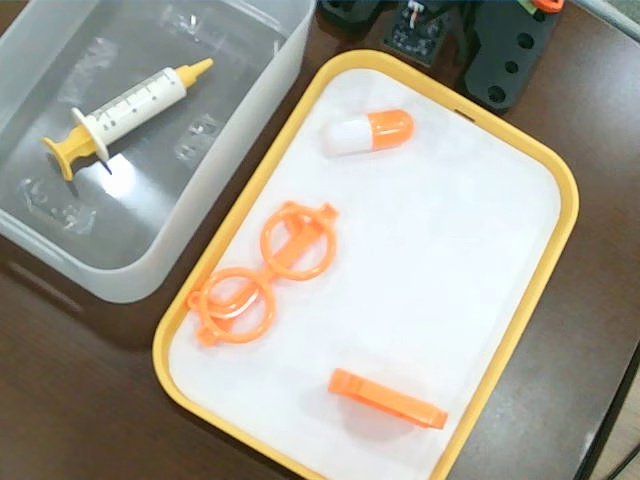pill: (321, 110, 416, 155)
syringe: (43, 57, 213, 181)
